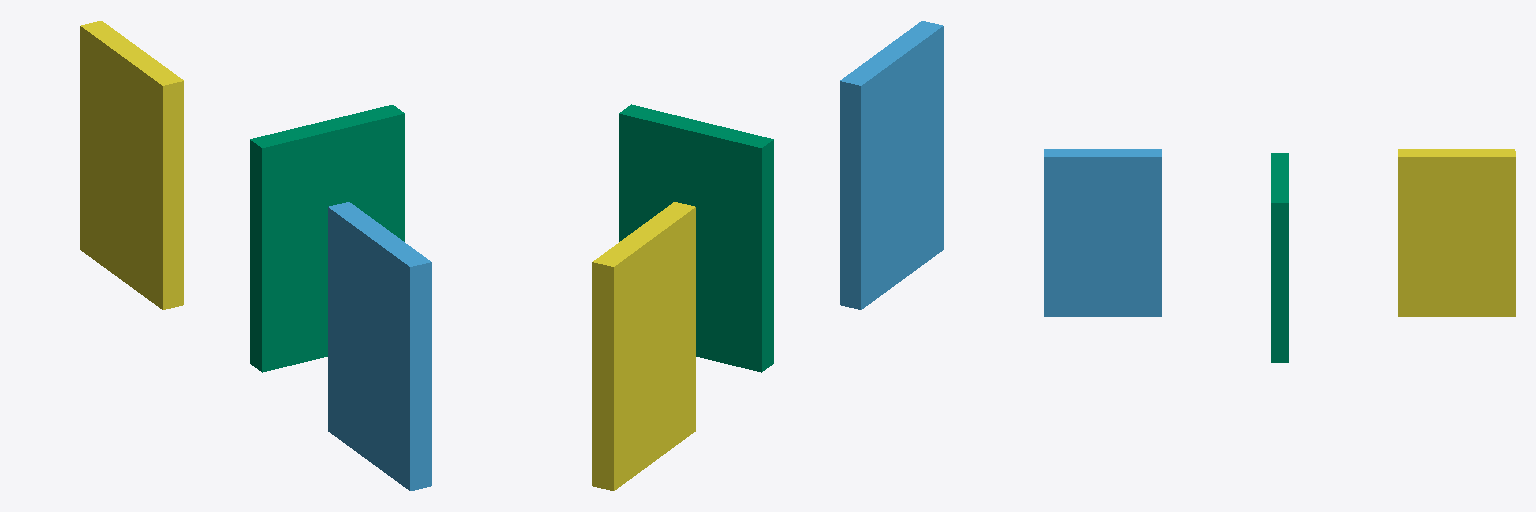
The robot description file, URDF, robot "objects3":
<?xml version="1.0"?>
    <robot name="objects3">

    
      <link name="base_link1">
        </link>



    <link name="door1">
        <visual>
         <geometry>
             <box size="0.03 0.2 0.3"/>
         </geometry>   
         <origin rpy="0.0 0.0 0.0" xyz="0.0 0.0 0.0"/>  
        </visual>
        <collision>
            <geometry>
             <box size="0.03 0.2 0.3"/>
         </geometry>   
         <origin rpy="0.0 0.0 0.0" xyz="0.0 0.0 0.0"/>  
        
        </collision>
    </link>


    <link name="door2">
        <visual>
         <geometry>
             <box size="0.03 0.2 0.3"/>
         </geometry>   
         <origin rpy="0.0 0.0 0.0" xyz="0.0 0.0 0.0"/>  
        </visual>
    <collision>
        <geometry>
             <box size="0.03 0.2 0.3"/>
         </geometry>   
         <origin rpy="0.0 0.0 0.0" xyz="0.0 0.0 0.0"/>  
    </collision>
    </link>


    <link name="door3">
        <visual>
         <geometry>
             <box size="0.03 0.2 0.3"/>
         </geometry>   
         <origin rpy="0.0 0.0 0.0" xyz="0.0 0.0 0.0"/>  
        </visual>
        <collision>
            <geometry>
             <box size="0.03 0.2 0.3"/>
         </geometry>   
         <origin rpy="0.0 0.0 0.0" xyz="0.0 0.0 0.0"/>  
        </collision>
    </link>


    <joint name="base_to_door1" type="prismatic">
        <parent link="base_link1"/>
        <child link="door1"/>
        <origin rpy="0 0 0" xyz="0.95 -0.05 0.55"/>
        <axis xyz="0.0 0.0 1"/>
        <limit lower="-3.17" upper="0.43" effort="0.05" velocity="1.57"/>
    </joint>

    <joint name="base_to_door2" type="prismatic">
        <parent link="base_link1"/>
        <child link="door2"/>
        <origin rpy="0 0 1.57" xyz="1.05 0.25 0.55"/>
        <axis xyz="0.0 0.0 1"/>
        <limit lower="0.0" upper="2.00" effort="0.05" velocity="1.57"/>
    </joint>

    <joint name="base_to_door3" type="prismatic">
        <parent link="base_link1"/>
        <child link="door3"/>
        <origin rpy ="0 0 -3.14" xyz="0.95 0.55 0.55"/>
        <axis xyz="0.0 0.0 1"/>
        <limit lower="-4.17" upper="0.43" effort="0.05" velocity="1.57"/>
    </joint>



    </robot>

--- What the picture shows (computed from the rendered views, not written in the file) ---
Views: 3 orthographic renders of the robot side by side, from view 1: azimuth 30°, elevation 25°; view 2: azimuth 150°, elevation 25°; view 3: azimuth 270°, elevation 25°.
Model objects3 with 4 links and 3 joints (3 prismatic), rooted at base_link1, posed all joints at 0.
Visible links, largest first — view 1: door2, door3, door1; view 2: door2, door1, door3; view 3: door1, door3, door2.
Link boxes in pixels (bbox=[...]): door2: bbox=[250, 105, 404, 372]; door3: bbox=[80, 21, 183, 309]; door1: bbox=[328, 202, 431, 490]; door2: bbox=[619, 104, 773, 372]; door1: bbox=[840, 21, 943, 309]; door3: bbox=[592, 202, 695, 490]; door1: bbox=[1044, 149, 1161, 316]; door3: bbox=[1398, 149, 1515, 316]; door2: bbox=[1271, 153, 1288, 362].
Size in the robot's own frame: 0.2152 by 0.8 by 0.3 metres.
Geometry: primitives only (box / cylinder / sphere), no mesh files.